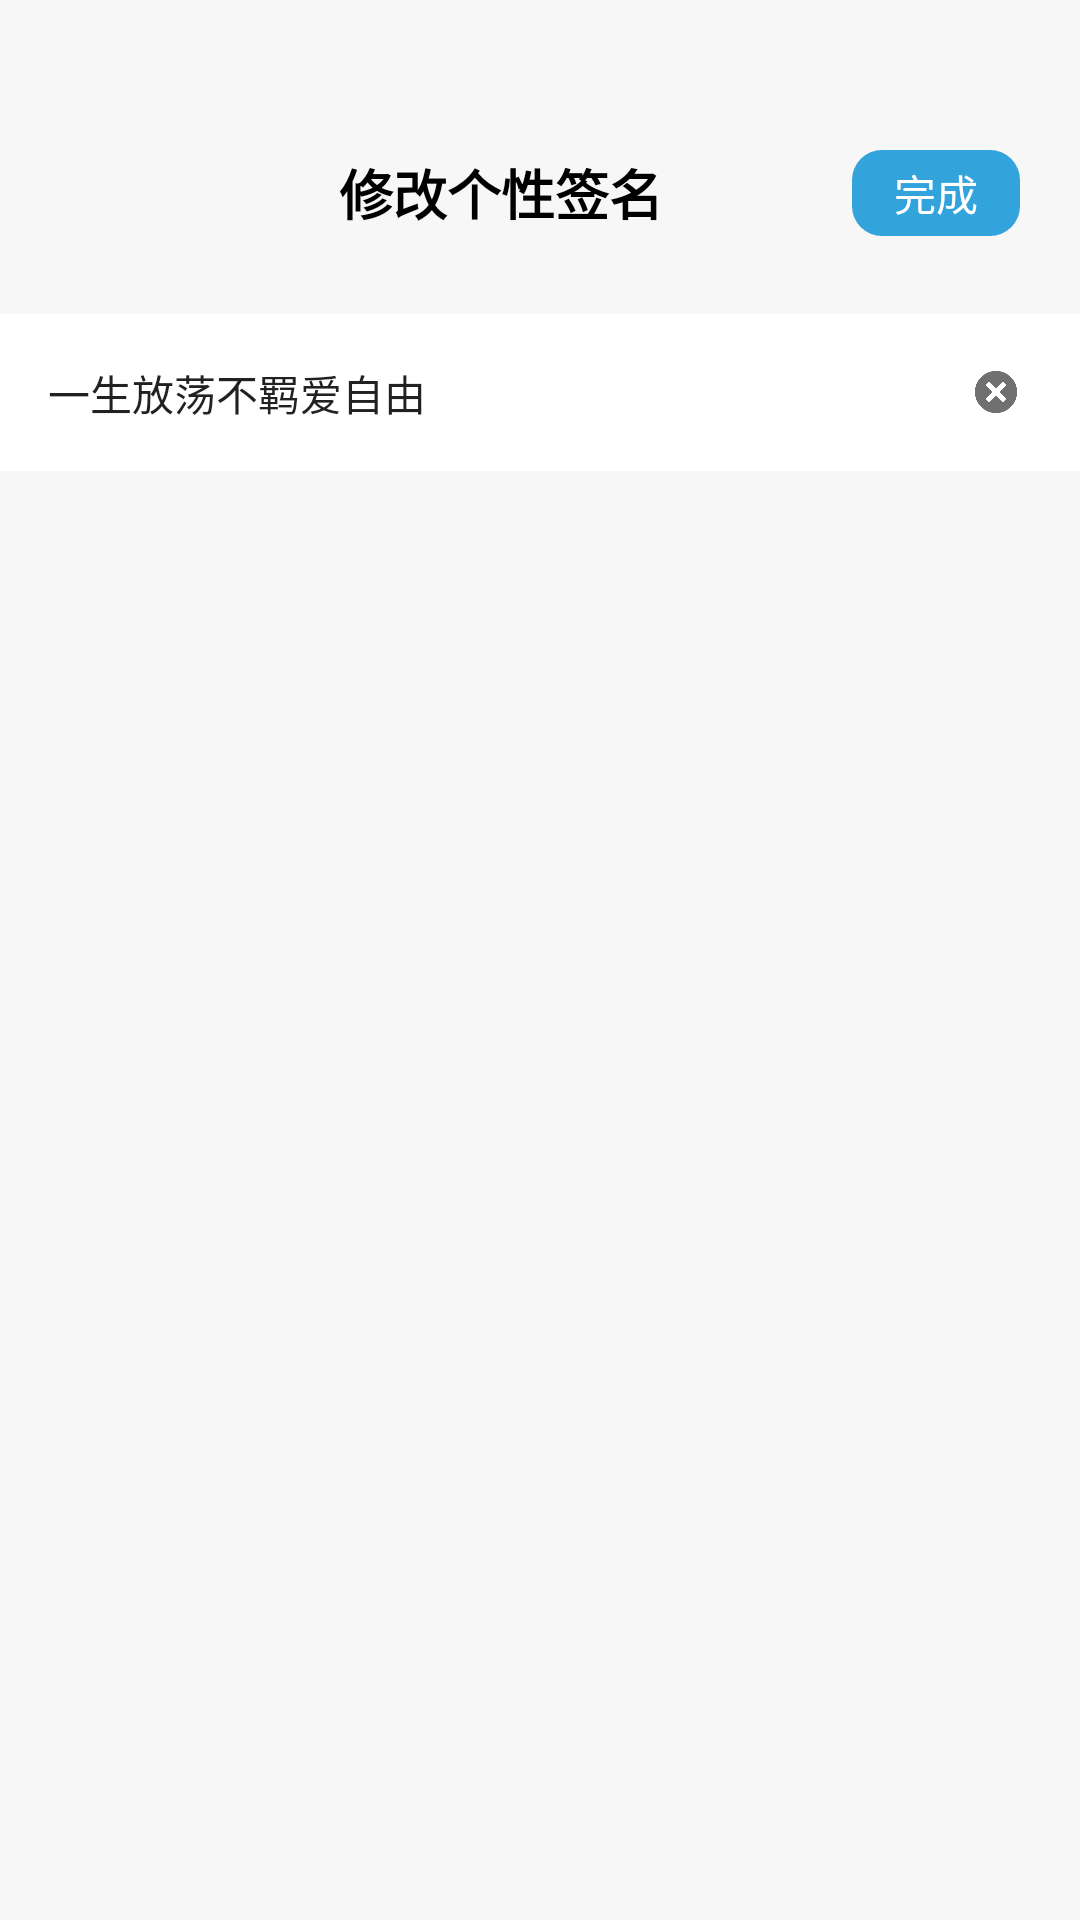

Icons on this 1080px×1920px Android screen, each with its box as (x1, y1, x2, y2):
delete: (975, 371, 1017, 413)
